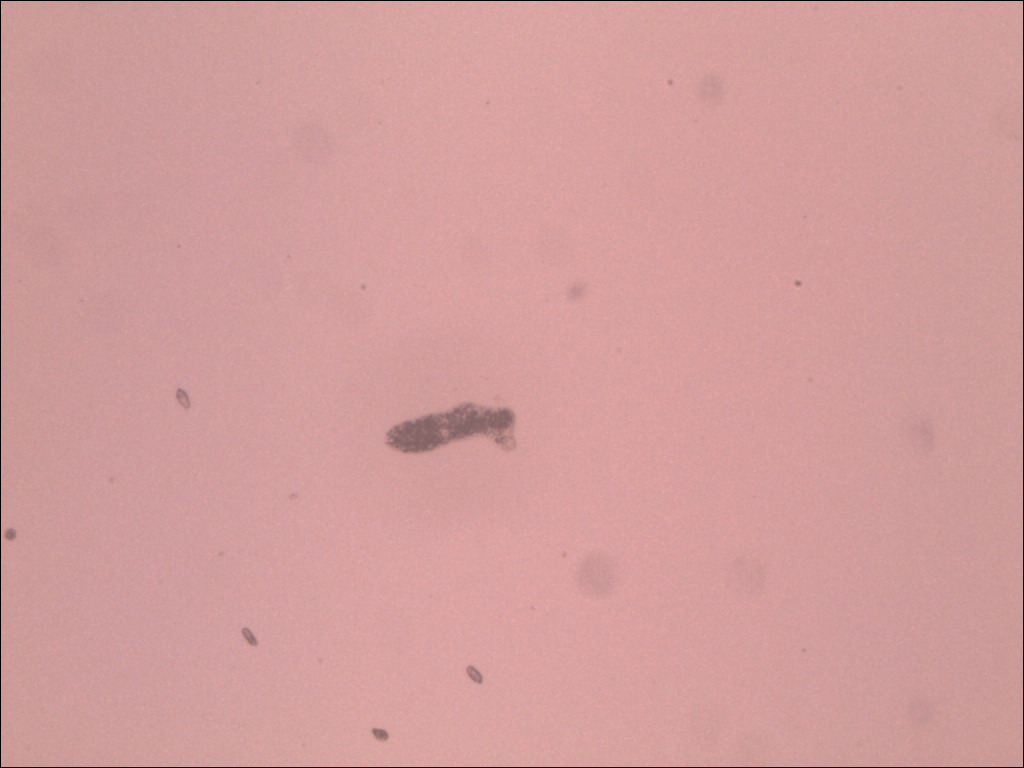amoeba: (375, 390, 527, 465)
